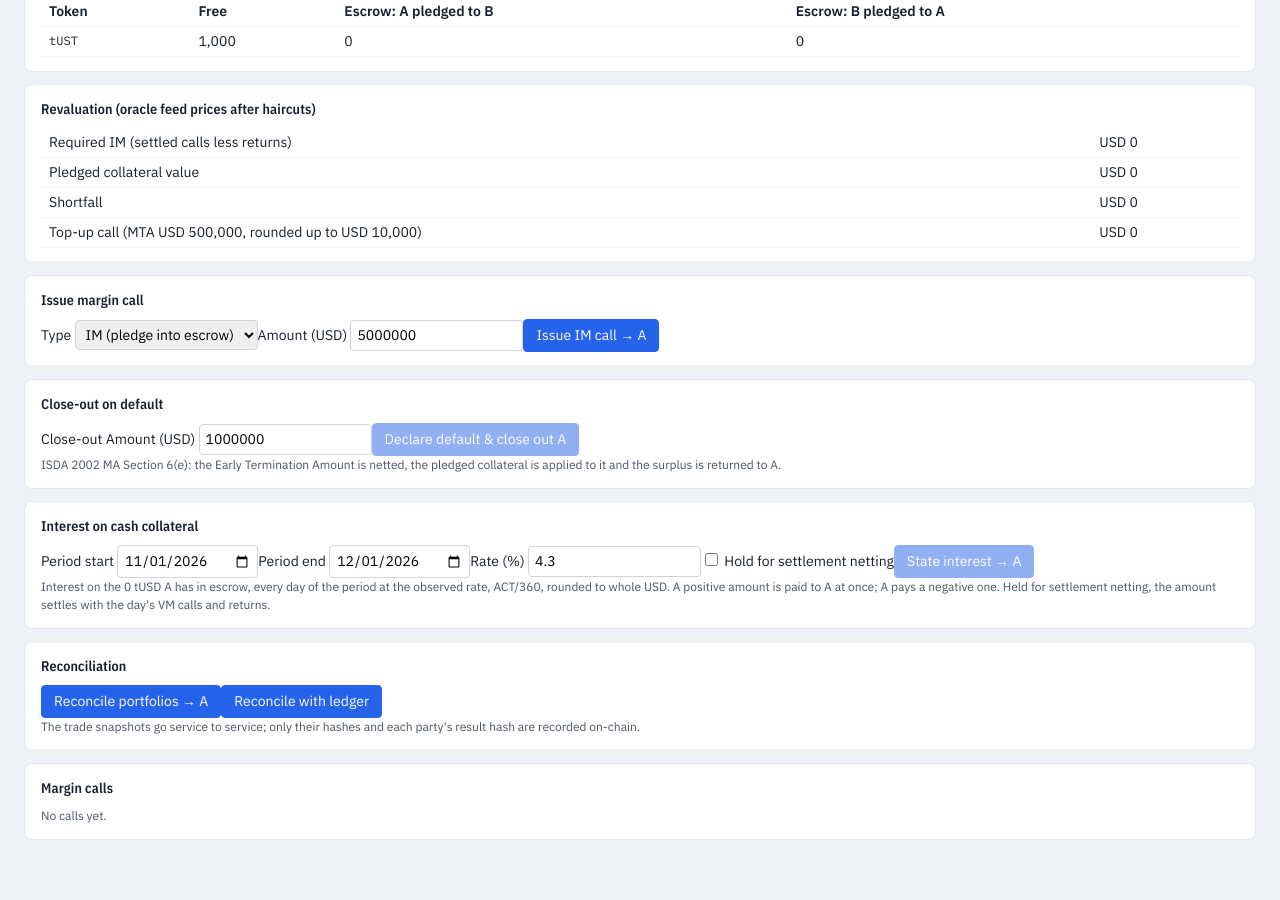
Test: flow-reconciliation › reconciles the party's records with the ledger
(page scrolled)
Click the button "Reconcile with ledger" at (302, 702), box [221,685,382,718]
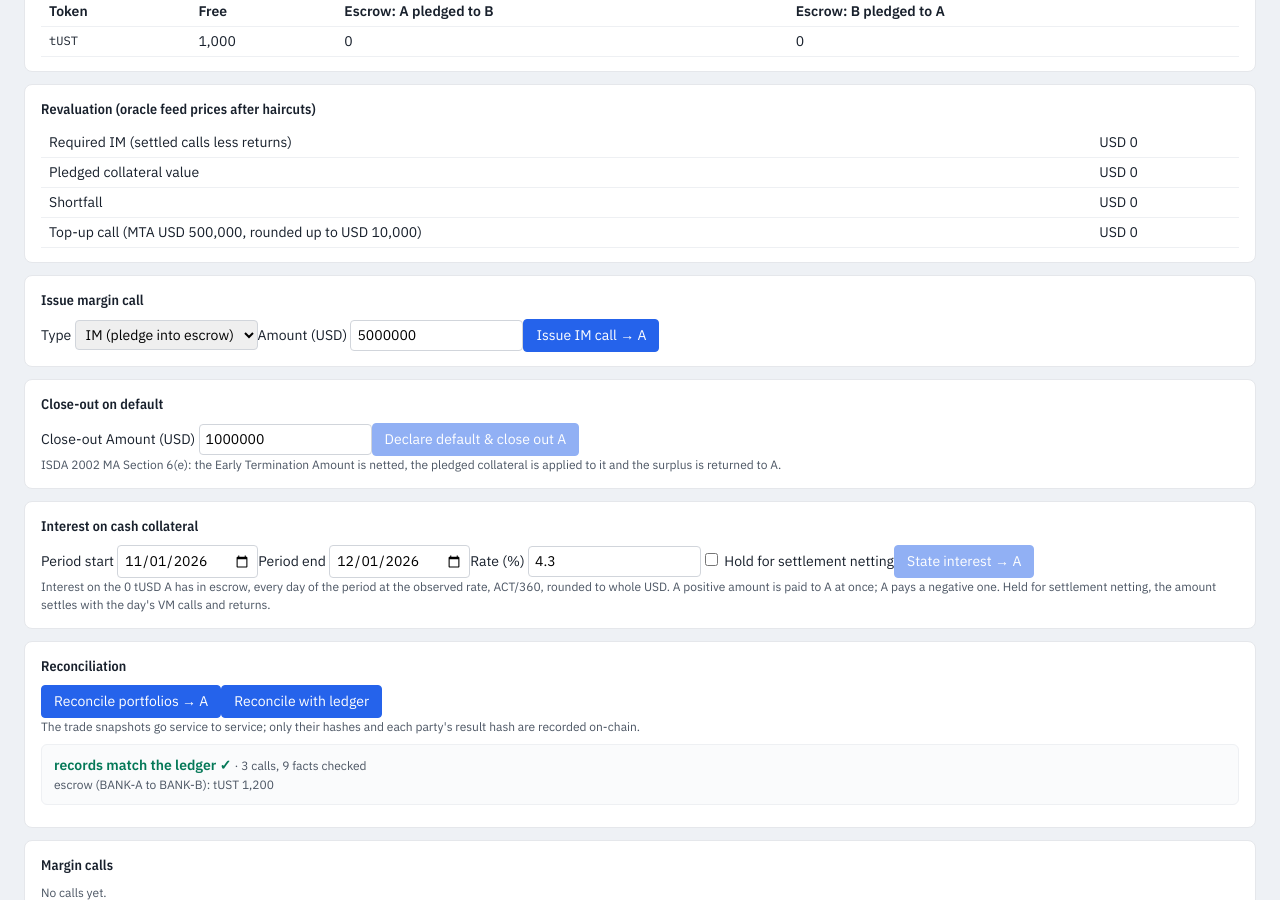
Expected: the element with test id "ledger-reconciliation" shows "records match the ledger ✓", [54,756,231,774]
Expected: the element with test id "ledger-reconciliation" shows "3 calls, 9 facts checked", [41,744,1239,805]
Expected: the text with test id "ledger-escrow" reads "escrow (BANK-A to BANK-B): tUST 1,200", [54,777,274,792]
